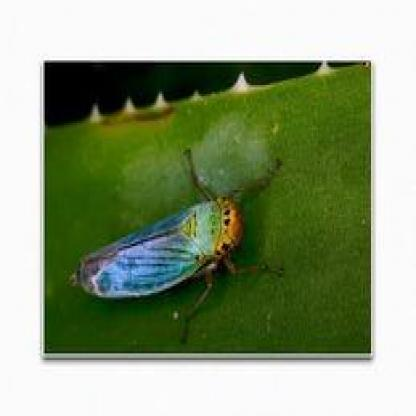Green-Leafhopper: (66, 151, 284, 343)
